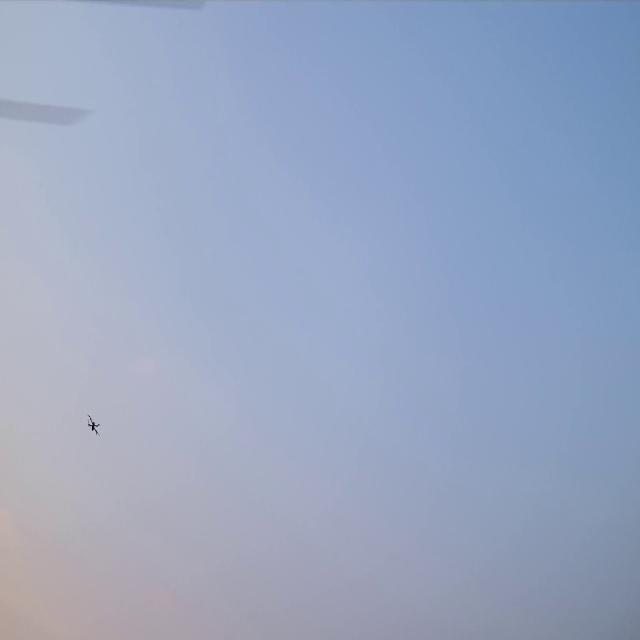UAV: (88, 417, 99, 434)
